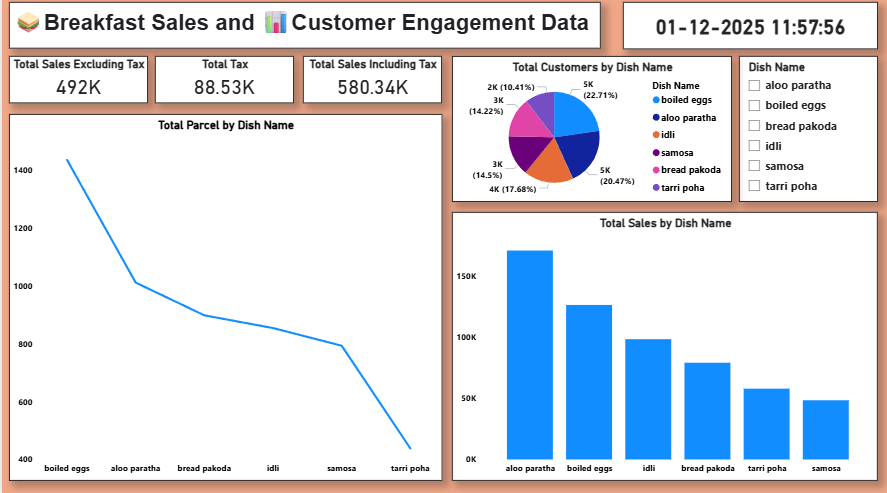

This screenshot's page, from the dashboard's own definition file:
{"tool":"powerbi","page":{"name":"Page 1","canvas":[1280,720],"ordinal":0},"visuals":[{"type":"textbox","box":[10.1,11.8,851.7,67.2],"z":0},{"type":"card","fields":{"Values":["restaurant_data.Today"]},"box":[894.2,11.5,367.2,67.7],"z":1},{"type":"card","title":"Total Sales Excluding Tax","fields":{"Values":["Sum(restaurant_data.Total Sales)"]},"box":[10.1,89.3,200.2,67.7],"z":2},{"type":"card","title":"Total Tax","fields":{"Values":["Sum(restaurant_data.Tax)"]},"box":[220.3,89.3,200.2,67.7],"z":3},{"type":"card","title":"Total Sales Including Tax","fields":{"Values":["Sum(restaurant_data.Sales)"]},"box":[433.4,89.3,200.2,67.7],"z":4},{"type":"slicer","fields":{"Values":["restaurant_data.Dish Name"]},"box":[1061.3,89.3,200.2,210.2],"z":5},{"type":"clusteredColumnChart","title":"Total Sales by Dish Name","fields":{"Category":["restaurant_data.Dish Name"],"Y":["Sum(restaurant_data.Sales)"]},"box":[648,313.9,613.4,387.4],"z":6},{"type":"lineChart","title":"Total Parcel by Dish Name","fields":{"Y":["Sum(restaurant_data.Parcel)"],"Category":["restaurant_data.Dish Name"]},"box":[10.1,172.8,623.5,528.5],"z":7},{"type":"pieChart","title":"Total Customers by Dish Name","fields":{"Y":["Sum(restaurant_data.Total Customers)"],"Category":["restaurant_data.Dish Name"]},"box":[648,89.3,403.2,210.2],"z":8}]}

Visuals, with their boxes in screenshot pixels (x1, y1, x2, y2), scaled from the page's 1280x720 canvas onto the 887x493 screenshot:
textbox: l=7, t=8, r=597, b=54
card - restaurant_data.Today: l=620, t=8, r=874, b=54
"Total Sales Excluding Tax" card: l=7, t=61, r=146, b=108
"Total Tax" card: l=153, t=61, r=291, b=108
"Total Sales Including Tax" card: l=300, t=61, r=439, b=108
slicer - restaurant_data.Dish Name: l=735, t=61, r=874, b=205
"Total Sales by Dish Name" clusteredColumnChart: l=449, t=215, r=874, b=480
"Total Parcel by Dish Name" lineChart: l=7, t=118, r=439, b=480
"Total Customers by Dish Name" pieChart: l=449, t=61, r=728, b=205
